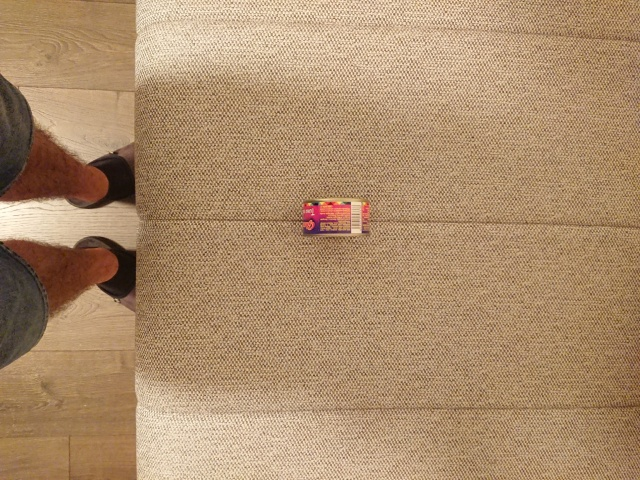Giana Tuna Salad Mexico 185g: (300, 195, 376, 241)
